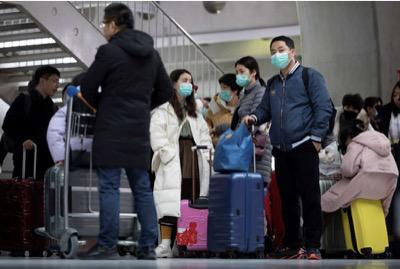with_mask: (269, 44, 291, 69), (176, 77, 194, 97), (234, 67, 251, 86), (342, 104, 359, 120), (219, 83, 233, 102)
without_mask: (45, 77, 60, 95), (100, 20, 109, 39), (392, 89, 399, 109)
